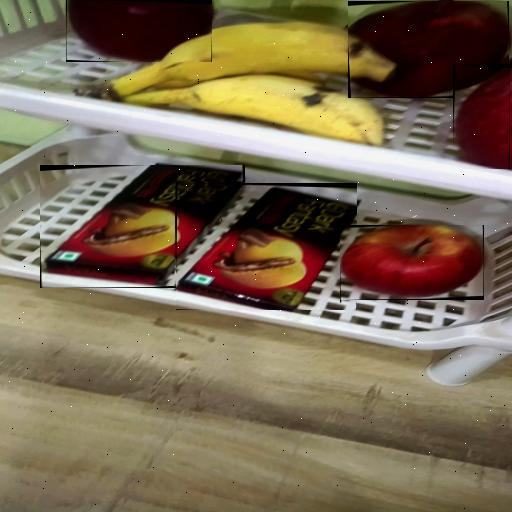Apple: (348, 1, 509, 98), (340, 225, 484, 300), (66, 0, 212, 62), (453, 66, 510, 169)
Choco Fills: (40, 165, 245, 288), (176, 183, 357, 310)
